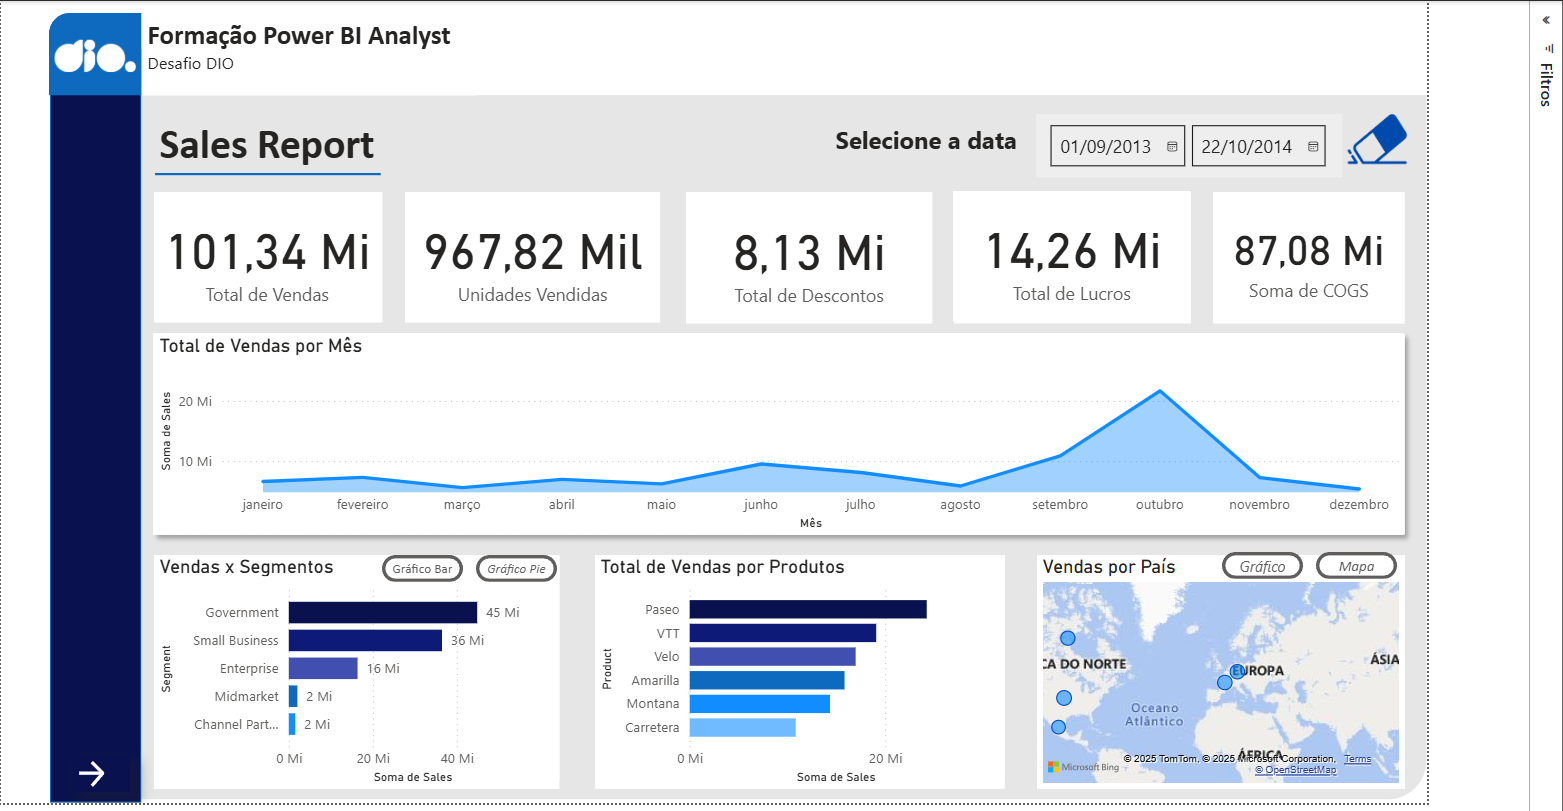

This screenshot's page, from the dashboard's own definition file:
{"tool":"powerbi","page":{"name":"Página 1","canvas":[1280,720],"ordinal":0},"visuals":[{"type":"shape","box":[58.4,10.7,1221.6,706.2],"z":0},{"type":"image","box":[1203,92.5,64.3,63.3],"z":0,"group":"g4"},{"type":"shape","box":[137.1,171.3,205.1,117.5],"z":0,"group":"g1"},{"type":"shape","box":[44,43,82.1,676.5],"z":1000},{"type":"slicer","fields":{"Values":["financials.Date"]},"box":[929.3,101.3,274.7,57.5],"z":1000,"group":"g4"},{"type":"shape","box":[1088.2,171.1,171.8,118.1],"z":1000,"group":"g1"},{"type":"shape","box":[42.9,10.7,82.8,74],"z":2000},{"type":"textbox","box":[744.2,105.2,221.1,49.7],"z":2000,"group":"g4"},{"type":"shape","box":[855,171.1,212.7,118.1],"z":2000,"group":"g1"},{"type":"image","box":[42.9,10.7,82.8,77],"z":3000},{"type":"actionButton","box":[1204,101.3,64.3,45.8],"z":3000,"group":"g4"},{"type":"shape","box":[362.1,171.3,229,117.5],"z":3000,"group":"g1"},{"type":"shape","box":[127.1,11,1152.9,74.1],"z":4000},{"type":"shape","box":[614.6,171.1,220.9,118.1],"z":4000,"group":"g1"},{"type":"actionButton","box":[65,677.4,51.2,32.3],"z":4000},{"type":"card","fields":{"Values":["Sum(financials.Units Sold)"]},"box":[362.3,171.1,229.2,117.1],"z":4062,"group":"g1"},{"type":"card","fields":{"Values":["Sum(financials.Discounts)"]},"box":[614.5,172.1,221.2,117.1],"z":4093,"group":"g1"},{"type":"card","fields":{"Values":["Sum(financials. Sales)"]},"box":[137.1,171.1,203.2,117.1],"z":4125,"group":"g1"},{"type":"card","fields":{"Values":["Sum(financials.Profit)"]},"box":[854.7,170.1,213.2,117.1],"z":4250,"group":"g1"},{"type":"card","fields":{"Values":["Sum(financials.COGS)"]},"box":[1087.8,172.1,172.1,117.1],"z":4500,"group":"g1"},{"type":"textbox","box":[126.6,10.7,300,74],"z":5000},{"type":"group","id":"g1","title":"Botões","box":[137.1,170.1,1122.9,119.1],"z":6000},{"type":"shape","box":[138.3,125.7,202.6,59.4],"z":7000},{"type":"textbox","box":[137.4,99.4,205.5,56.5],"z":8000},{"type":"shape","box":[127.1,289.2,1140.9,199.2],"z":9000},{"type":"shape","box":[137.1,497.4,364.3,202.2],"z":10000},{"type":"shape","box":[533.4,497.4,368.3,202.2],"z":11000},{"type":"shape","box":[929.7,497.4,330.3,210.2],"z":12000},{"type":"areaChart","title":"Total de Vendas por Mês","fields":{"Category":["financials.Date.Variation.Hierarquia de datas.Mês"],"Y":["Sum(financials. Sales)"]},"box":[137.1,299.2,1122.9,180.1],"z":14000},{"type":"clusteredBarChart","title":"Total de Vendas por Produtos","fields":{"Y":["Sum(financials. Sales)"],"Category":["financials.Product"]},"box":[533.4,497.4,368.3,210.2],"z":15000},{"type":"group","id":"g2","title":"Grupo 2","box":[137.1,497.4,364.7,210.2],"z":17000},{"type":"group","id":"g3","title":"Grupo 3","box":[929.7,494.7,330.7,212.9],"z":18000},{"type":"group","id":"g4","title":"Grupo 1","box":[744.2,92.5,524.1,66.2],"z":18001},{"type":"clusteredBarChart","title":"Vendas x Segmentos","fields":{"Y":["Sum(financials. Sales)"],"Category":["financials.Segment"]},"box":[137.1,497.4,364.3,210.2],"z":20000,"group":"g2"},{"type":"map","title":"Vendas por País","fields":{"Category":["financials.Country"],"Size":["Sum(financials. Sales)"]},"box":[929.7,497.4,330.3,210.2],"z":22000,"group":"g3"},{"type":"actionButton","box":[426.4,497.4,72.7,24.2],"z":23501,"group":"g2"},{"type":"actionButton","box":[1180.5,494.7,72.7,24.2],"z":23502,"group":"g3"},{"type":"actionButton","box":[342,497.4,72.7,24.2],"z":24001,"group":"g2"},{"type":"actionButton","box":[1096.1,494.7,72.7,24.2],"z":24002,"group":"g3"}]}

Visuals, with their boxes on the page's 1280x720 design canvas (x1, y1, x2, y2). These are canvas units, not pixel positions in the 1563x811 screenshot, which may show the page scaled, cropped or inside an application window:
shape: <box>58,11,1280,717</box>
image: <box>1203,92,1267,156</box>
shape: <box>137,171,342,289</box>
shape: <box>44,43,126,720</box>
slicer - financials.Date: <box>929,101,1204,159</box>
shape: <box>1088,171,1260,289</box>
shape: <box>43,11,126,85</box>
textbox: <box>744,105,965,155</box>
shape: <box>855,171,1068,289</box>
image: <box>43,11,126,88</box>
actionButton: <box>1204,101,1268,147</box>
shape: <box>362,171,591,289</box>
shape: <box>127,11,1280,85</box>
shape: <box>615,171,836,289</box>
actionButton: <box>65,677,116,710</box>
card - Sum(financials.Units Sold): <box>362,171,592,288</box>
card - Sum(financials.Discounts): <box>614,172,836,289</box>
card - Sum(financials. Sales): <box>137,171,340,288</box>
card - Sum(financials.Profit): <box>855,170,1068,287</box>
card - Sum(financials.COGS): <box>1088,172,1260,289</box>
textbox: <box>127,11,427,85</box>
"Botões" group: <box>137,170,1260,289</box>
shape: <box>138,126,341,185</box>
textbox: <box>137,99,343,156</box>
shape: <box>127,289,1268,488</box>
shape: <box>137,497,501,700</box>
shape: <box>533,497,902,700</box>
shape: <box>930,497,1260,708</box>
"Total de Vendas por Mês" areaChart: <box>137,299,1260,479</box>
"Total de Vendas por Produtos" clusteredBarChart: <box>533,497,902,708</box>
"Grupo 2" group: <box>137,497,502,708</box>
"Grupo 3" group: <box>930,495,1260,708</box>
"Grupo 1" group: <box>744,92,1268,159</box>
"Vendas x Segmentos" clusteredBarChart: <box>137,497,501,708</box>
"Vendas por País" map: <box>930,497,1260,708</box>
actionButton: <box>426,497,499,522</box>
actionButton: <box>1180,495,1253,519</box>
actionButton: <box>342,497,415,522</box>
actionButton: <box>1096,495,1169,519</box>
